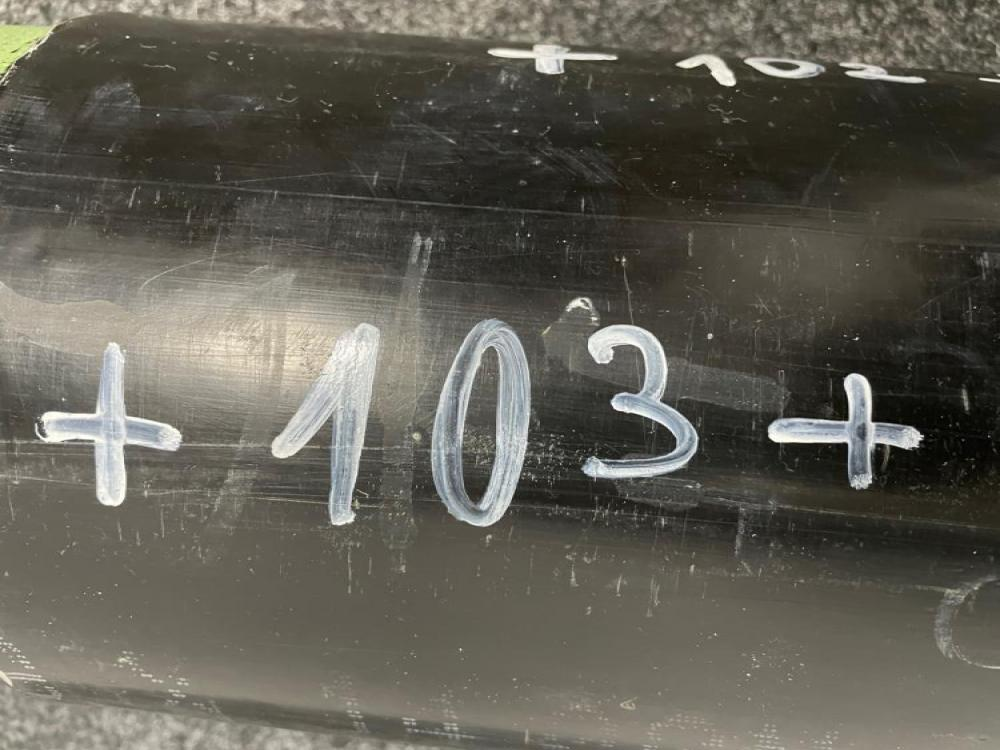+: (41, 342, 182, 506), (769, 374, 922, 490), (491, 42, 619, 76)
0: (430, 319, 531, 527), (745, 54, 826, 82)
1: (265, 322, 386, 523), (675, 52, 737, 86)
2: (834, 60, 925, 85)
3: (583, 322, 698, 482)
